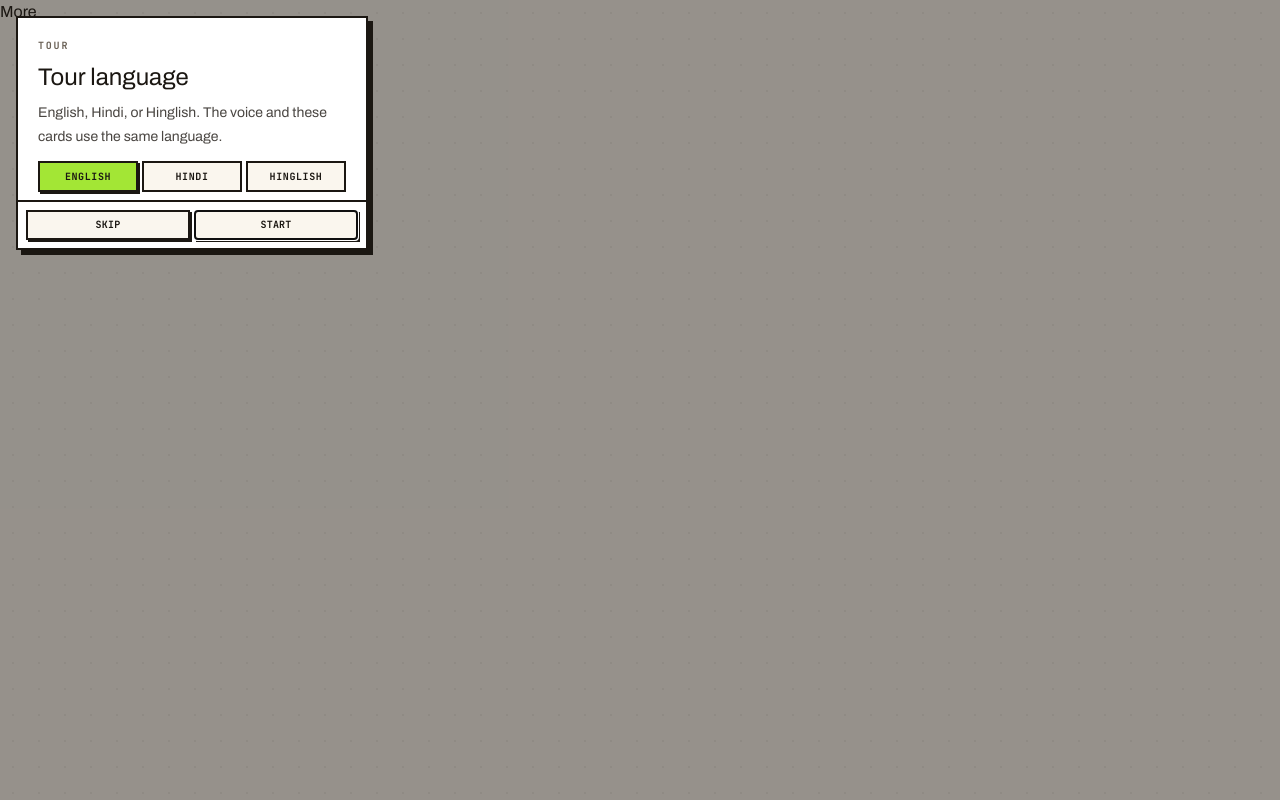
product tour › opens a closed menu before spotlighting what is inside
The width and height of the screenshot is (1280, 800).
Click the button "Start" at (276,225), box [194,210,358,240]
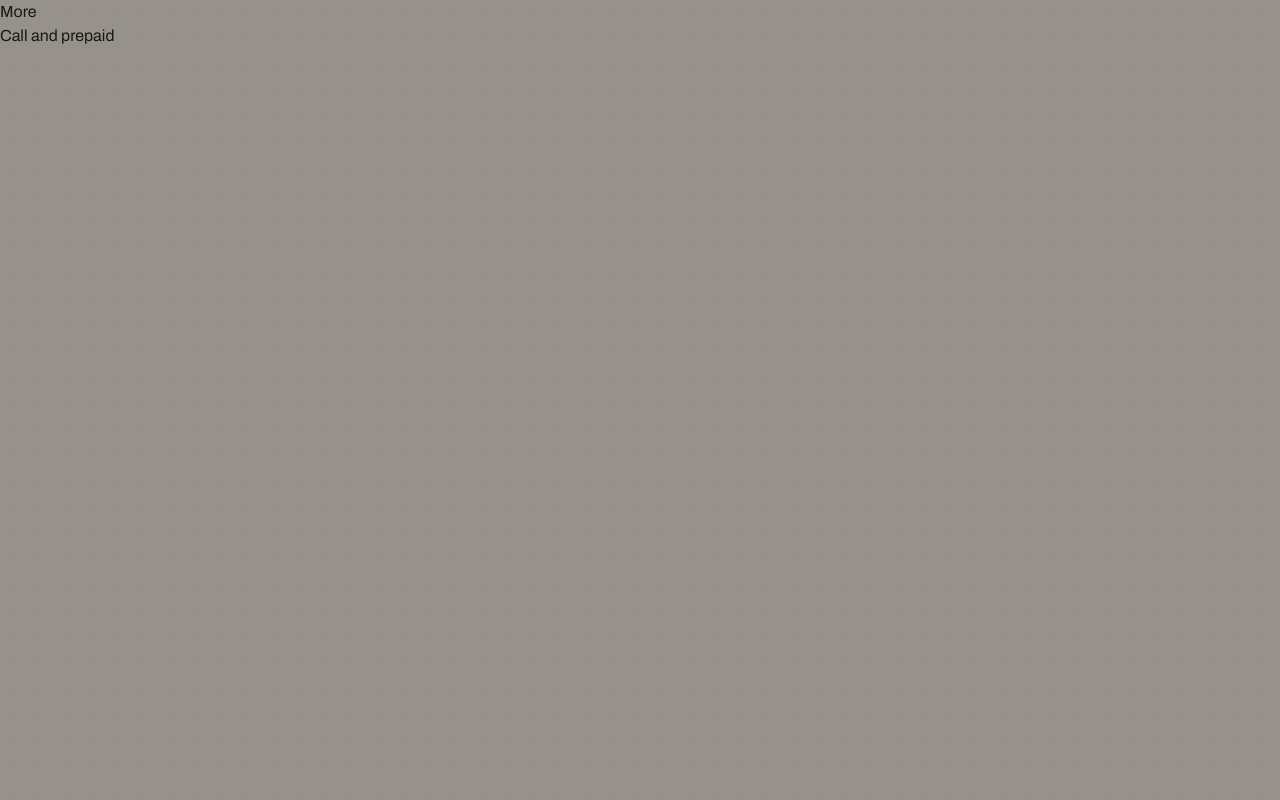
Expected: the text "Call and prepaid" is shown, [0,27,114,44]
